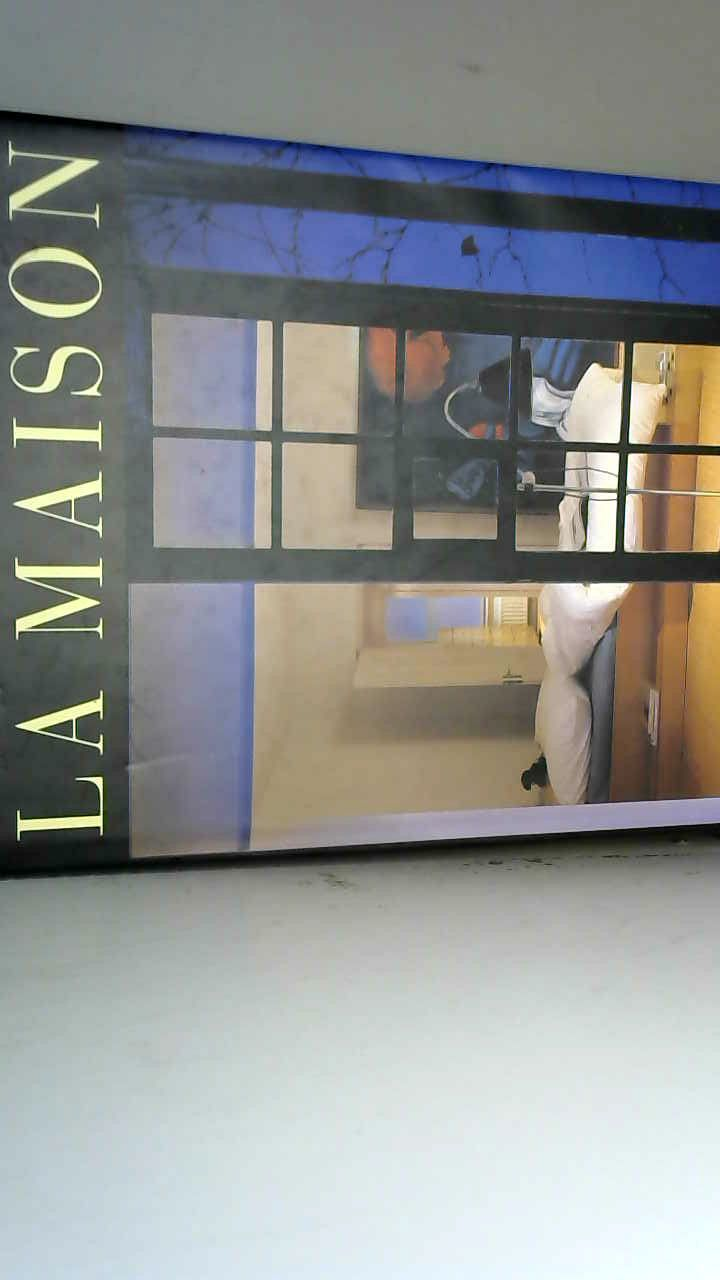book: (0, 92, 716, 896)
